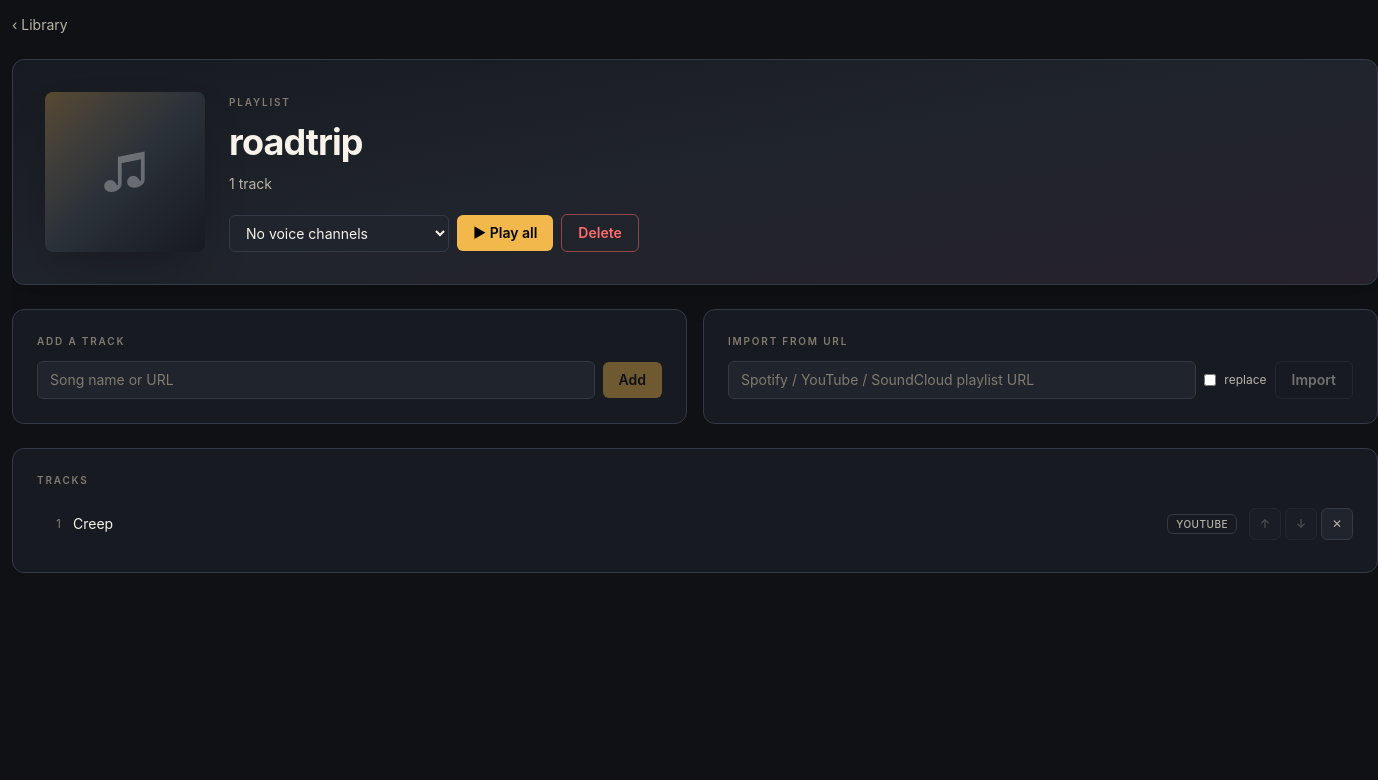
Test: PlaylistDetailPage delete confirmation › does not delete until the action is confirmed
Click the button "Delete".
click(600, 233)  # box x1=561 y1=214 x2=639 y2=252
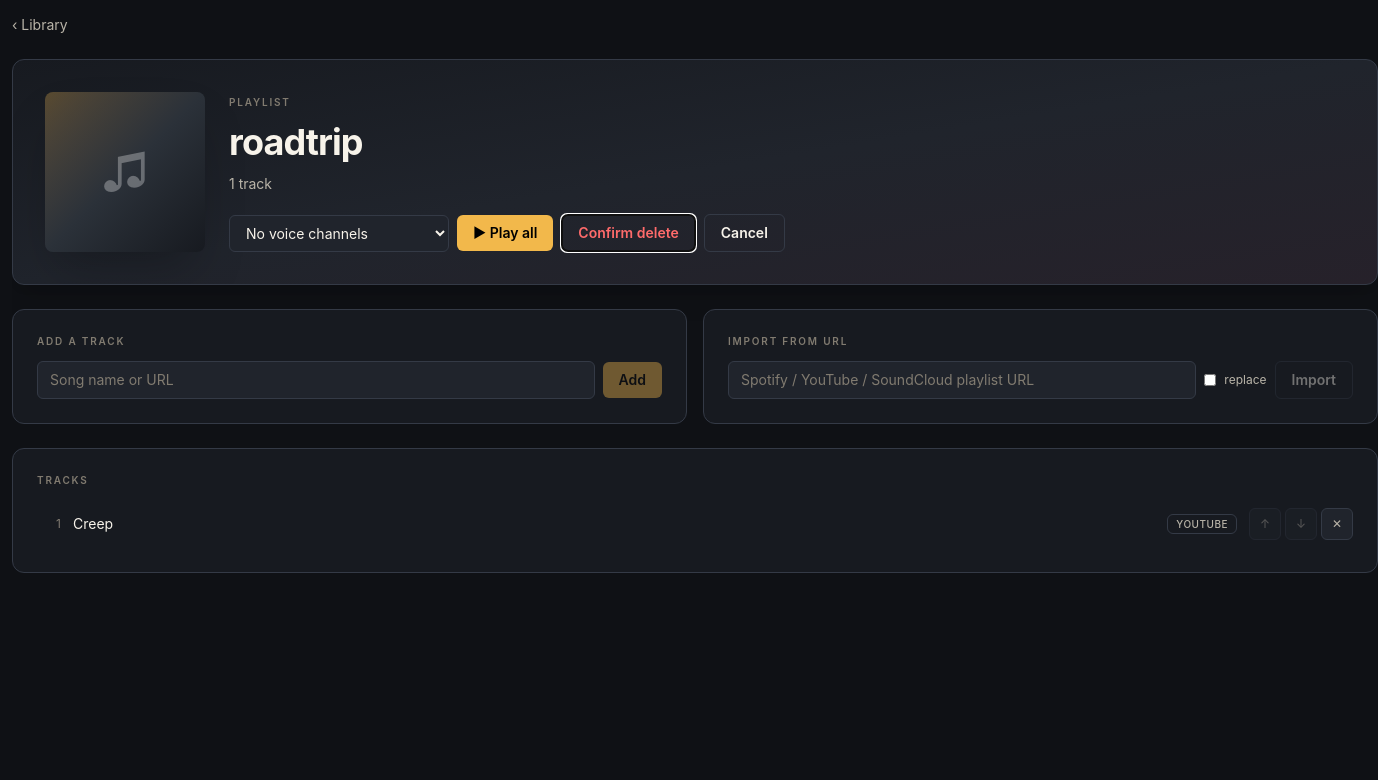
Result: the button "Confirm delete" is shown at x1=561 y1=214 x2=696 y2=252
